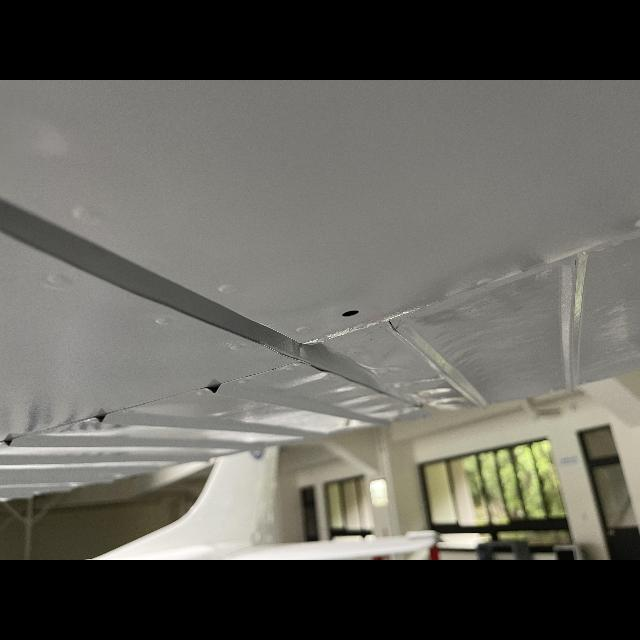Missing Fastener: (326, 302, 382, 322)
